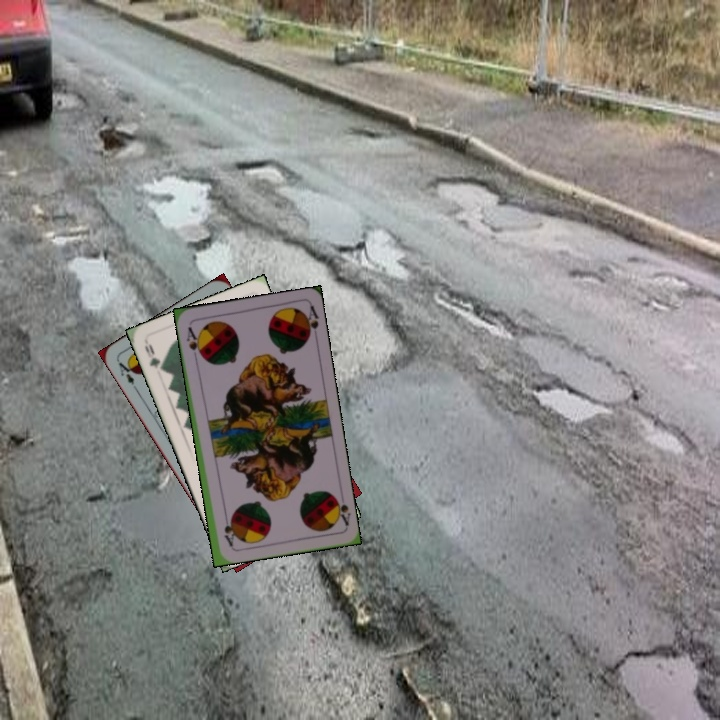EA: (114, 357, 140, 393)
G9: (140, 340, 167, 374)
SA: (328, 490, 352, 528), (183, 322, 204, 360)
